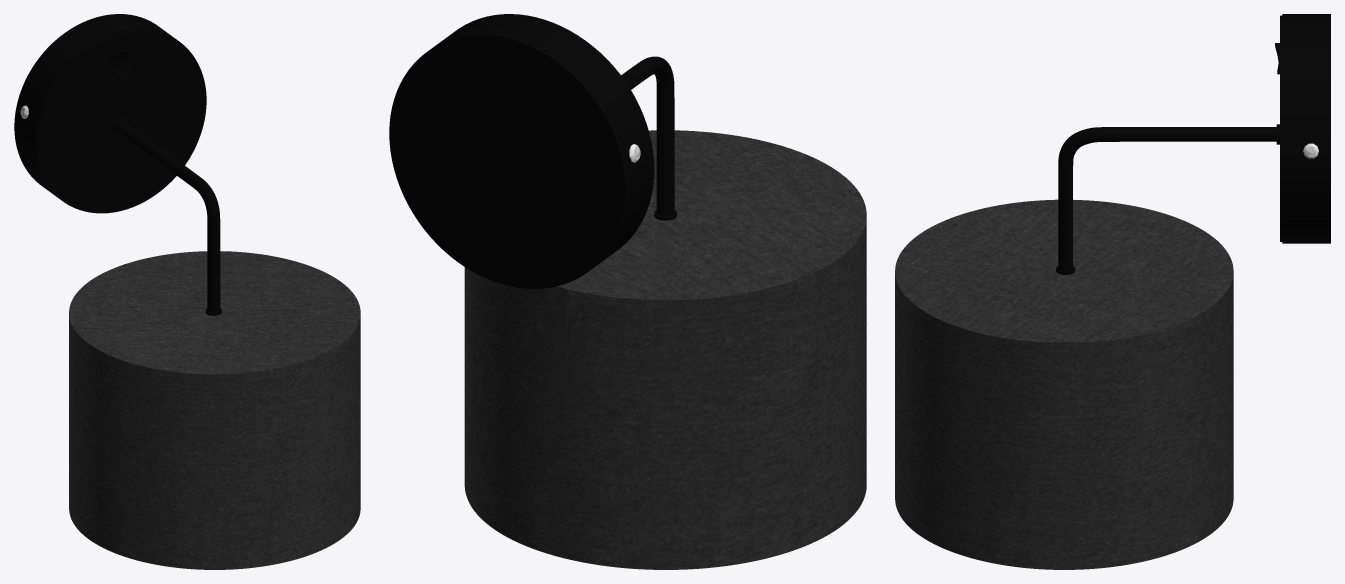
The model's file is lampbra.fbx.
3 views of the same model, side by side, from view 1: azimuth 30°, elevation 25°; view 2: azimuth 150°, elevation 25°; view 3: azimuth 270°, elevation 25° (orthographic). The views are drawn at different scales.
Visible parts, largest first — view 1: Cylinder; view 2: Cylinder; view 3: Cylinder.
Boxes of the visible parts, <box> form: Cylinder: <box>14,14,360,569</box>; Cylinder: <box>389,14,866,569</box>; Cylinder: <box>895,14,1330,569</box>.
Bounding box in the file's own units: 291 × 449 × 374.
